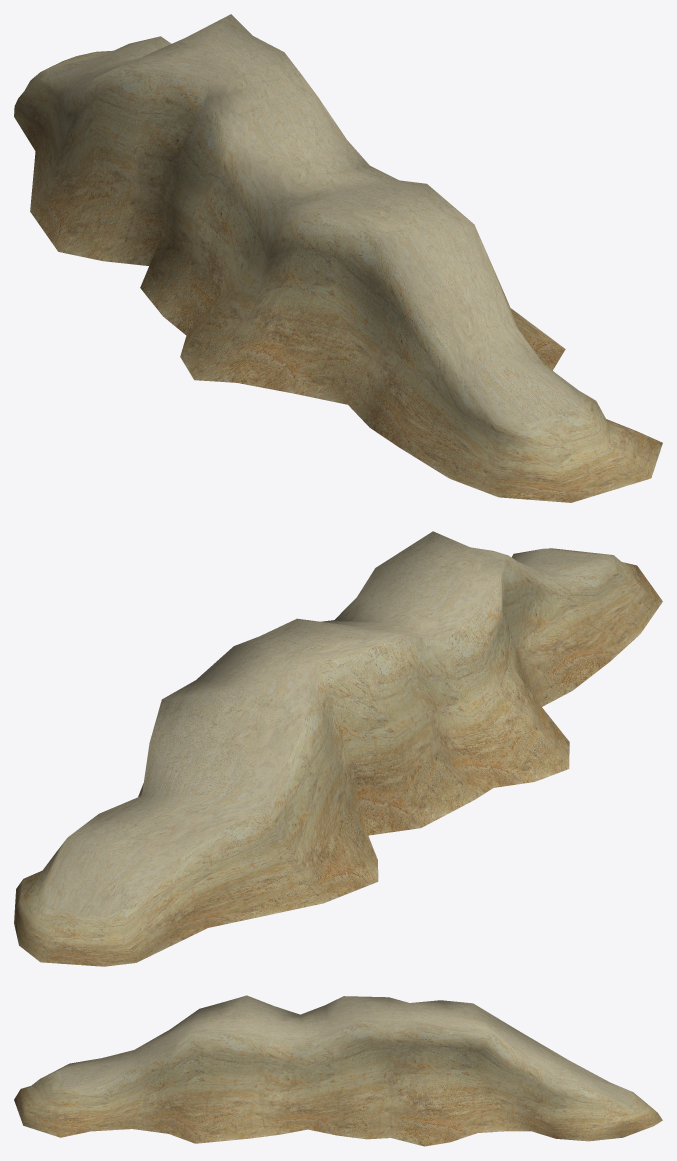
The model's file is rock_beach_spine_l1.fbx.
The picture shows the model from 3 angles, top to bottom: view 1: azimuth 30°, elevation 25°; view 2: azimuth 150°, elevation 25°; view 3: azimuth 270°, elevation 25°; orthographic projection. The views are drawn at different scales.
Parts seen in each view (by area): view 1: mesh_node; view 2: mesh_node; view 3: mesh_node.
Part boxes in pixels (bbox=[...]): mesh_node: bbox=[14, 14, 662, 502]; mesh_node: bbox=[14, 531, 662, 966]; mesh_node: bbox=[14, 995, 662, 1146].
Size of the model in its own units: 8.17 by 4.54 by 26.15.
